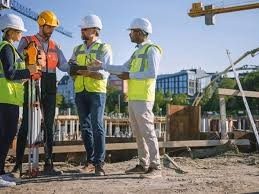Casco de seguridad: (0, 14, 26, 31), (127, 18, 151, 33), (37, 10, 58, 26), (79, 15, 102, 29)
